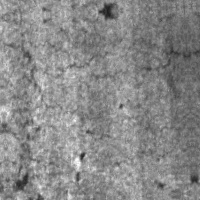crazing: (38, 30, 175, 82), (0, 27, 43, 167)
